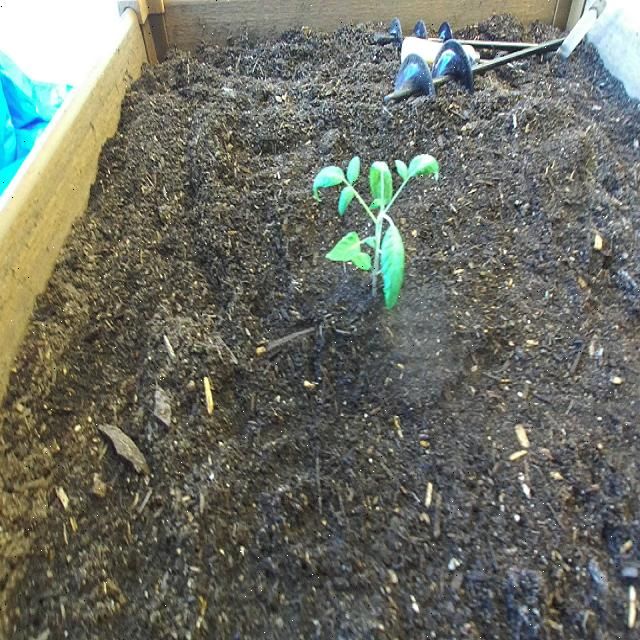Healthy: (312, 151, 443, 314)
